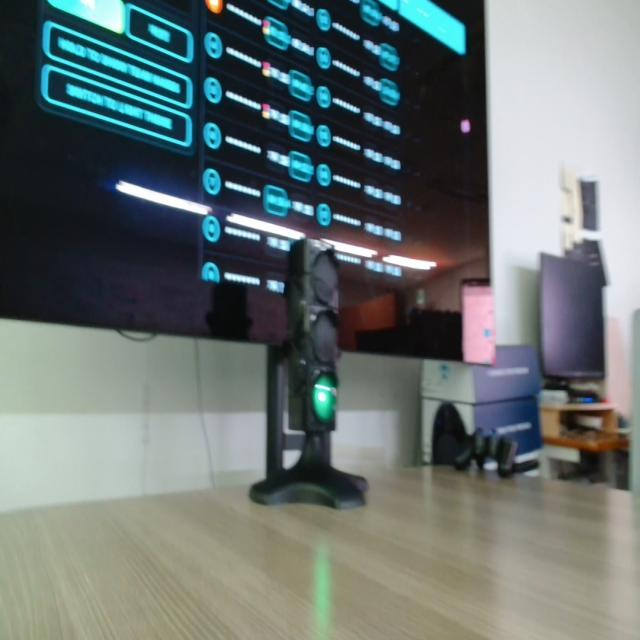green_light: (313, 374, 336, 423)
